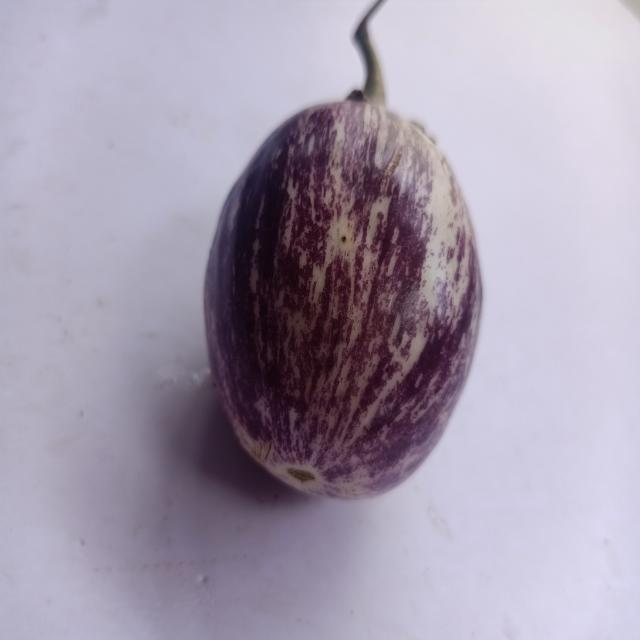Eggplant: (183, 0, 498, 530)
